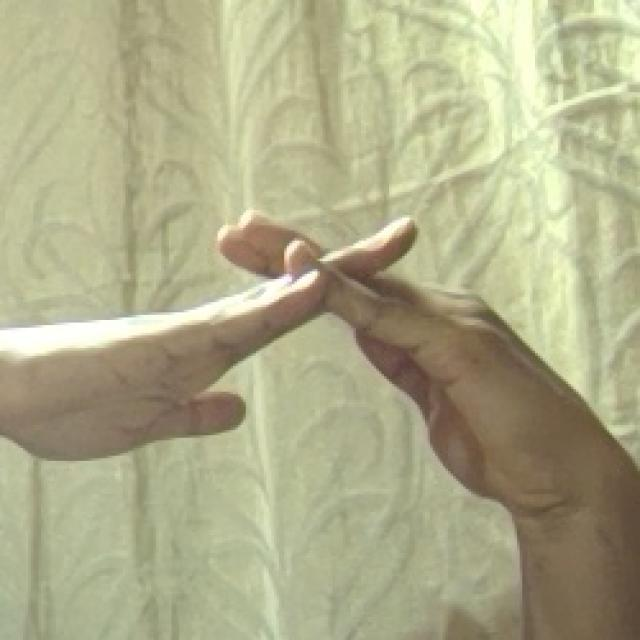Alphabet-W: (62, 145, 548, 531)
